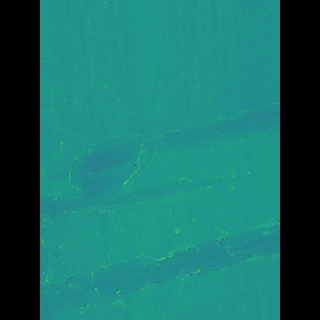Loch: (69, 0, 249, 246), (70, 207, 249, 319)
